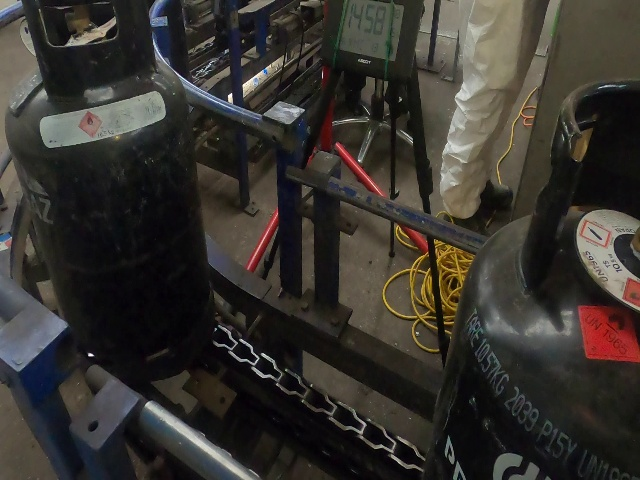gas_bottle: (0, 0, 617, 468)
